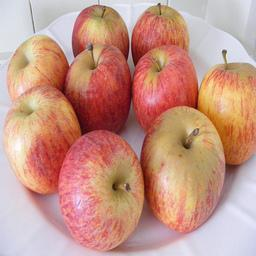apple: (55, 130, 147, 253), (141, 106, 226, 232), (3, 84, 82, 194), (63, 42, 129, 135), (131, 44, 199, 133), (199, 61, 256, 166), (6, 35, 69, 102), (131, 4, 190, 65), (72, 4, 129, 62)
